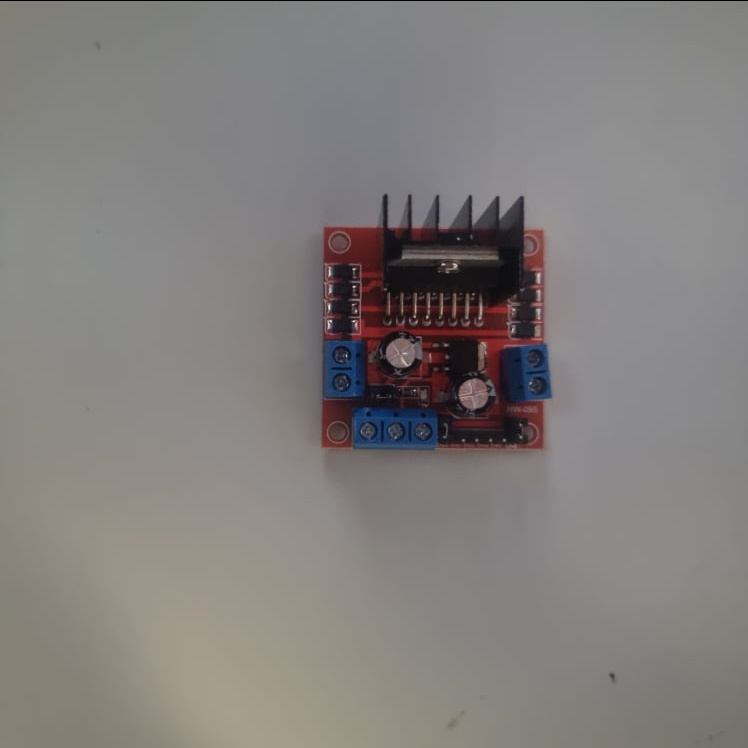MOTOR: (319, 191, 555, 449)
